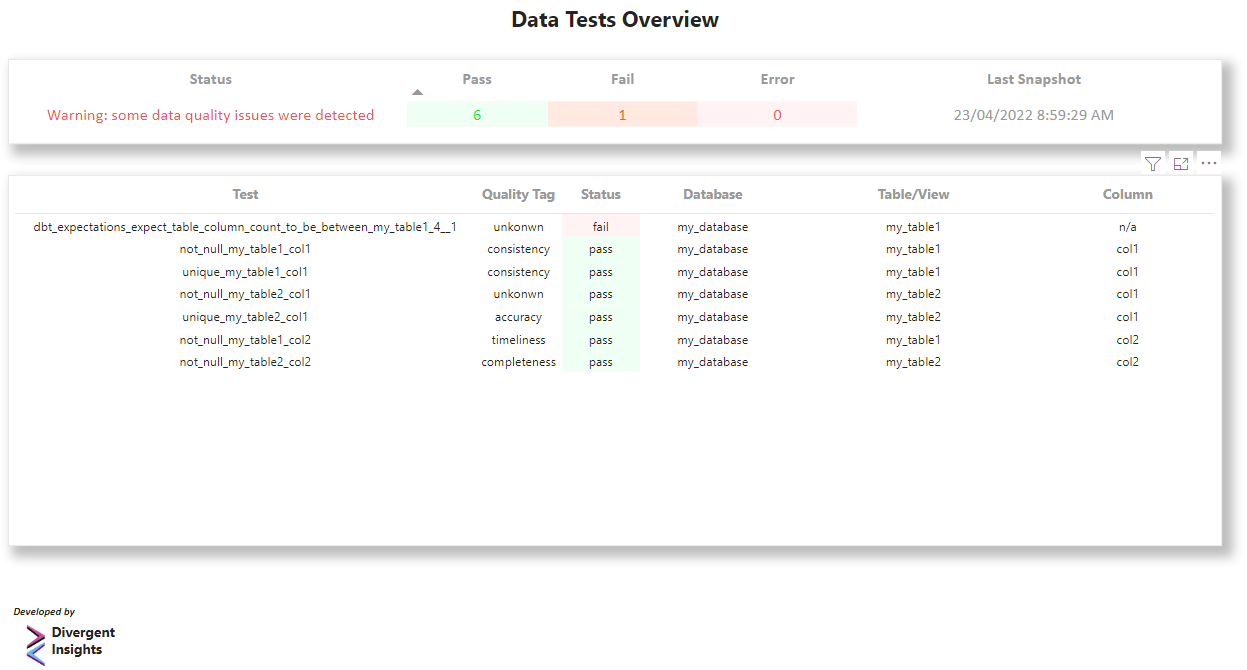

The page's visual inventory and layout, read from the dashboard file:
{"tool":"powerbi","page":{"name":"Tests Overview","canvas":[1280,720],"ordinal":1},"visuals":[{"type":"textbox","box":[49.6,64.2,1180.8,59.3],"z":0},{"type":"tableEx","title":"sdfadsfad","fields":{"Values":["TESTS_OVERVIEW.STATUS","Sum(TESTS_OVERVIEW.PASS)","Sum(TESTS_OVERVIEW.FAIL)","Sum(TESTS_OVERVIEW.ERROR)","TESTS_OVERVIEW.PAYLOAD_TIMESTAMP_UTC"]},"box":[49.6,123.5,1180.8,82.7],"z":1000},{"type":"tableEx","fields":{"Values":["TESTS_DETAILS.TEST_NAME","TESTS_DETAILS.QUALITY_TAG","TESTS_DETAILS.STATUS","TESTS_DETAILS.DATABASE","TESTS_DETAILS.TABLE_NAME","TESTS_DETAILS.COLUMN_NAME"]},"box":[49.6,236.4,1180.8,360.9],"z":2000},{"type":"textbox","box":[49.6,644.9,363.8,44.7],"z":3000},{"type":"group","id":"g1","title":"Group 1","box":[49.6,666.3,123.5,53.5],"z":4000},{"type":"image","box":[49.6,667.3,52.5,52.5],"z":5000,"group":"g1"},{"type":"textbox","box":[86.6,666.3,86.6,53.5],"z":7000,"group":"g1"}]}

Visuals, with their boxes on the page's 1280x720 design canvas (x1, y1, x2, y2). These are canvas units, not pixel positions in the 1247x670 screenshot, which may show the page scaled, cropped or inside an application window:
textbox: Rect(50, 64, 1230, 124)
"sdfadsfad" tableEx: Rect(50, 124, 1230, 206)
tableEx - TESTS_DETAILS.TEST_NAME x TESTS_DETAILS.QUALITY_TAG: Rect(50, 236, 1230, 597)
textbox: Rect(50, 645, 413, 690)
"Group 1" group: Rect(50, 666, 173, 720)
image: Rect(50, 667, 102, 720)
textbox: Rect(87, 666, 173, 720)
